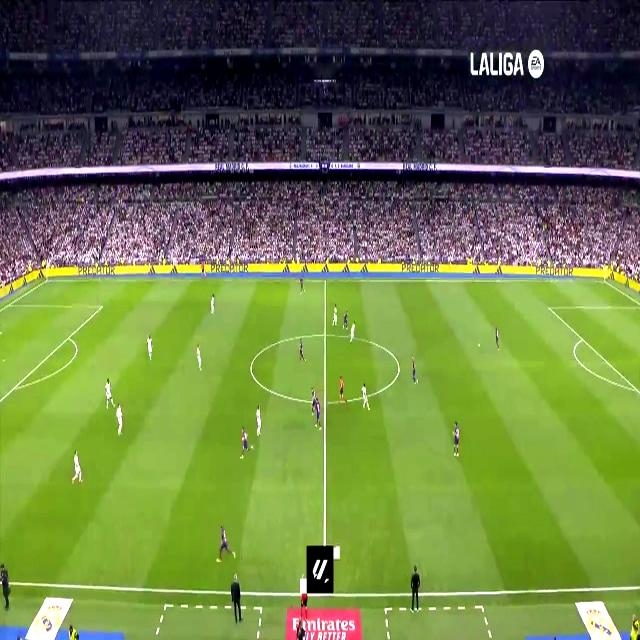bigarea_top_inner: (98, 299, 104, 312)
bigarea_top_outter: (7, 298, 13, 308)
bottom_arc_area_intersection: (632, 381, 638, 395)
halfcircle_bottom: (322, 393, 330, 410)
halfcircle_top: (321, 325, 330, 343)
top_arc_area_intersection: (579, 332, 585, 344)
